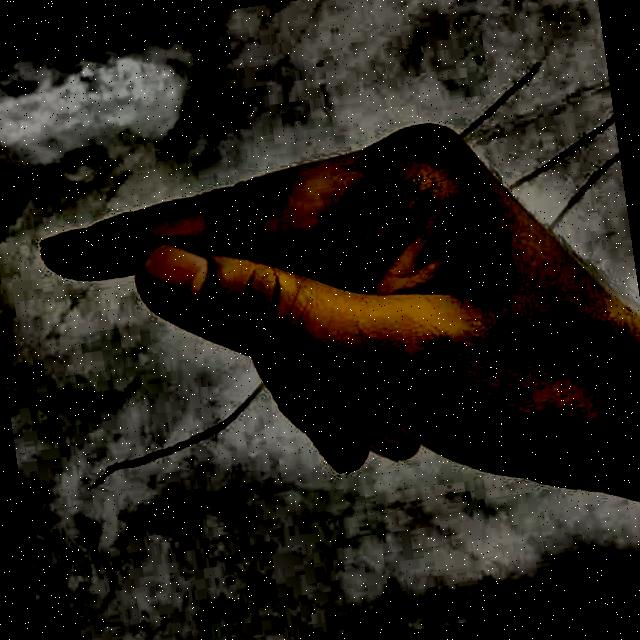Tha: (1, 78, 640, 603)
